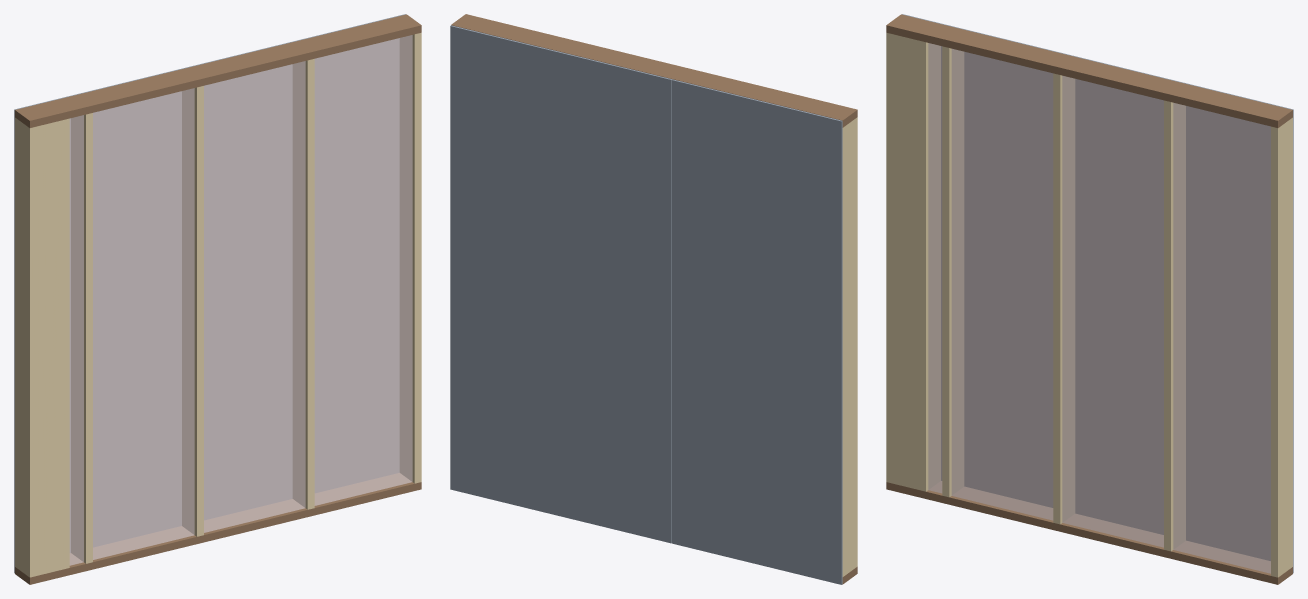
The picture shows the model from 3 angles, left to right: view 1: azimuth 30°, elevation 25°; view 2: azimuth 150°, elevation 25°; view 3: azimuth 330°, elevation 25°; orthographic projection.
Parts seen in each view (by area): view 1: EX1 FF; view 2: EX1 FF; view 3: EX1 FF.
Part boxes in pixels (left/top/right/bottom): EX1 FF: left=14, top=14, right=421, bottom=584; EX1 FF: left=450, top=14, right=857, bottom=584; EX1 FF: left=886, top=14, right=1293, bottom=584.
Bounding box in the file's own units: 2.12 × 2.4 × 0.149.
